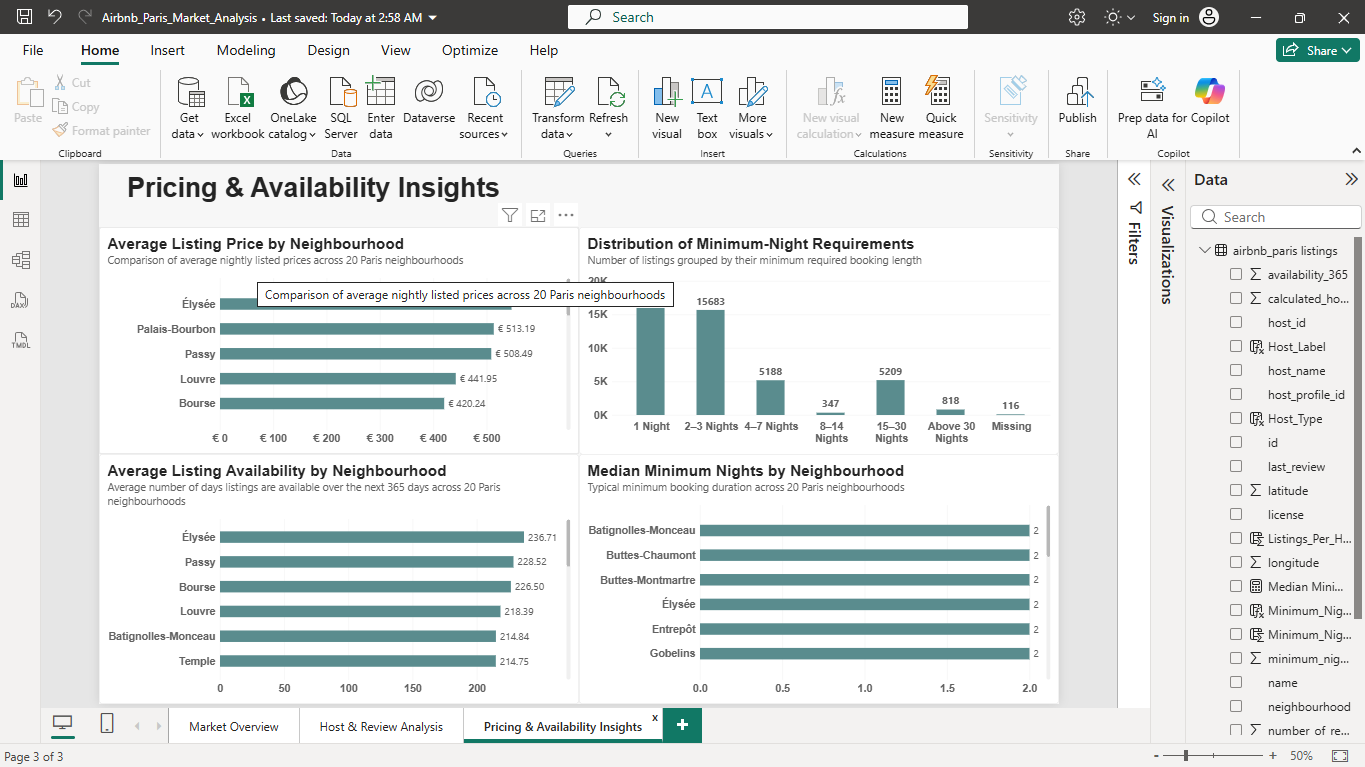

What the dashboard file says about the page in this screenshot:
{"tool":"powerbi","page":{"name":"Pricing & Availability Insights","canvas":[1920,1080],"ordinal":2},"visuals":[{"type":"textbox","box":[56,16,1570,92],"z":0},{"type":"clusteredBarChart","title":"Average Listing Price by Neighbourhood","fields":{"Category":["airbnb_paris listings.neighbourhood"],"Y":["Avg(airbnb_paris listings.price)"]},"box":[0,125,960,455],"z":1},{"type":"clusteredBarChart","title":"Average Listing Availability by Neighbourhood","fields":{"Category":["airbnb_paris listings.neighbourhood"],"Y":["Avg(airbnb_paris listings.availability_365)"]},"box":[0,580,960,500],"z":2},{"type":"clusteredColumnChart","title":"Distribution of Minimum-Night Requirements","fields":{"Category":["airbnb_paris listings.Minimum_Night_Category"],"Y":["CountNonNull(airbnb_paris listings.id)"]},"box":[960,125,960,455],"z":3},{"type":"clusteredBarChart","title":"Median Minimum Nights by Neighbourhood","fields":{"Category":["airbnb_paris listings.neighbourhood"],"Y":["airbnb_paris listings.Median Minimum Nights"]},"box":[960,580,960,500],"z":4}]}

Visuals, with their boxes on the page's 1920x1080 design canvas (x1, y1, x2, y2). These are canvas units, not pixel positions in the 1365x767 screenshot, which may show the page scaled, cropped or inside an application window:
textbox: pyautogui.locateOnScreen(56, 16, 1626, 108)
"Average Listing Price by Neighbourhood" clusteredBarChart: pyautogui.locateOnScreen(0, 125, 960, 580)
"Average Listing Availability by Neighbourhood" clusteredBarChart: pyautogui.locateOnScreen(0, 580, 960, 1080)
"Distribution of Minimum-Night Requirements" clusteredColumnChart: pyautogui.locateOnScreen(960, 125, 1920, 580)
"Median Minimum Nights by Neighbourhood" clusteredBarChart: pyautogui.locateOnScreen(960, 580, 1920, 1080)
